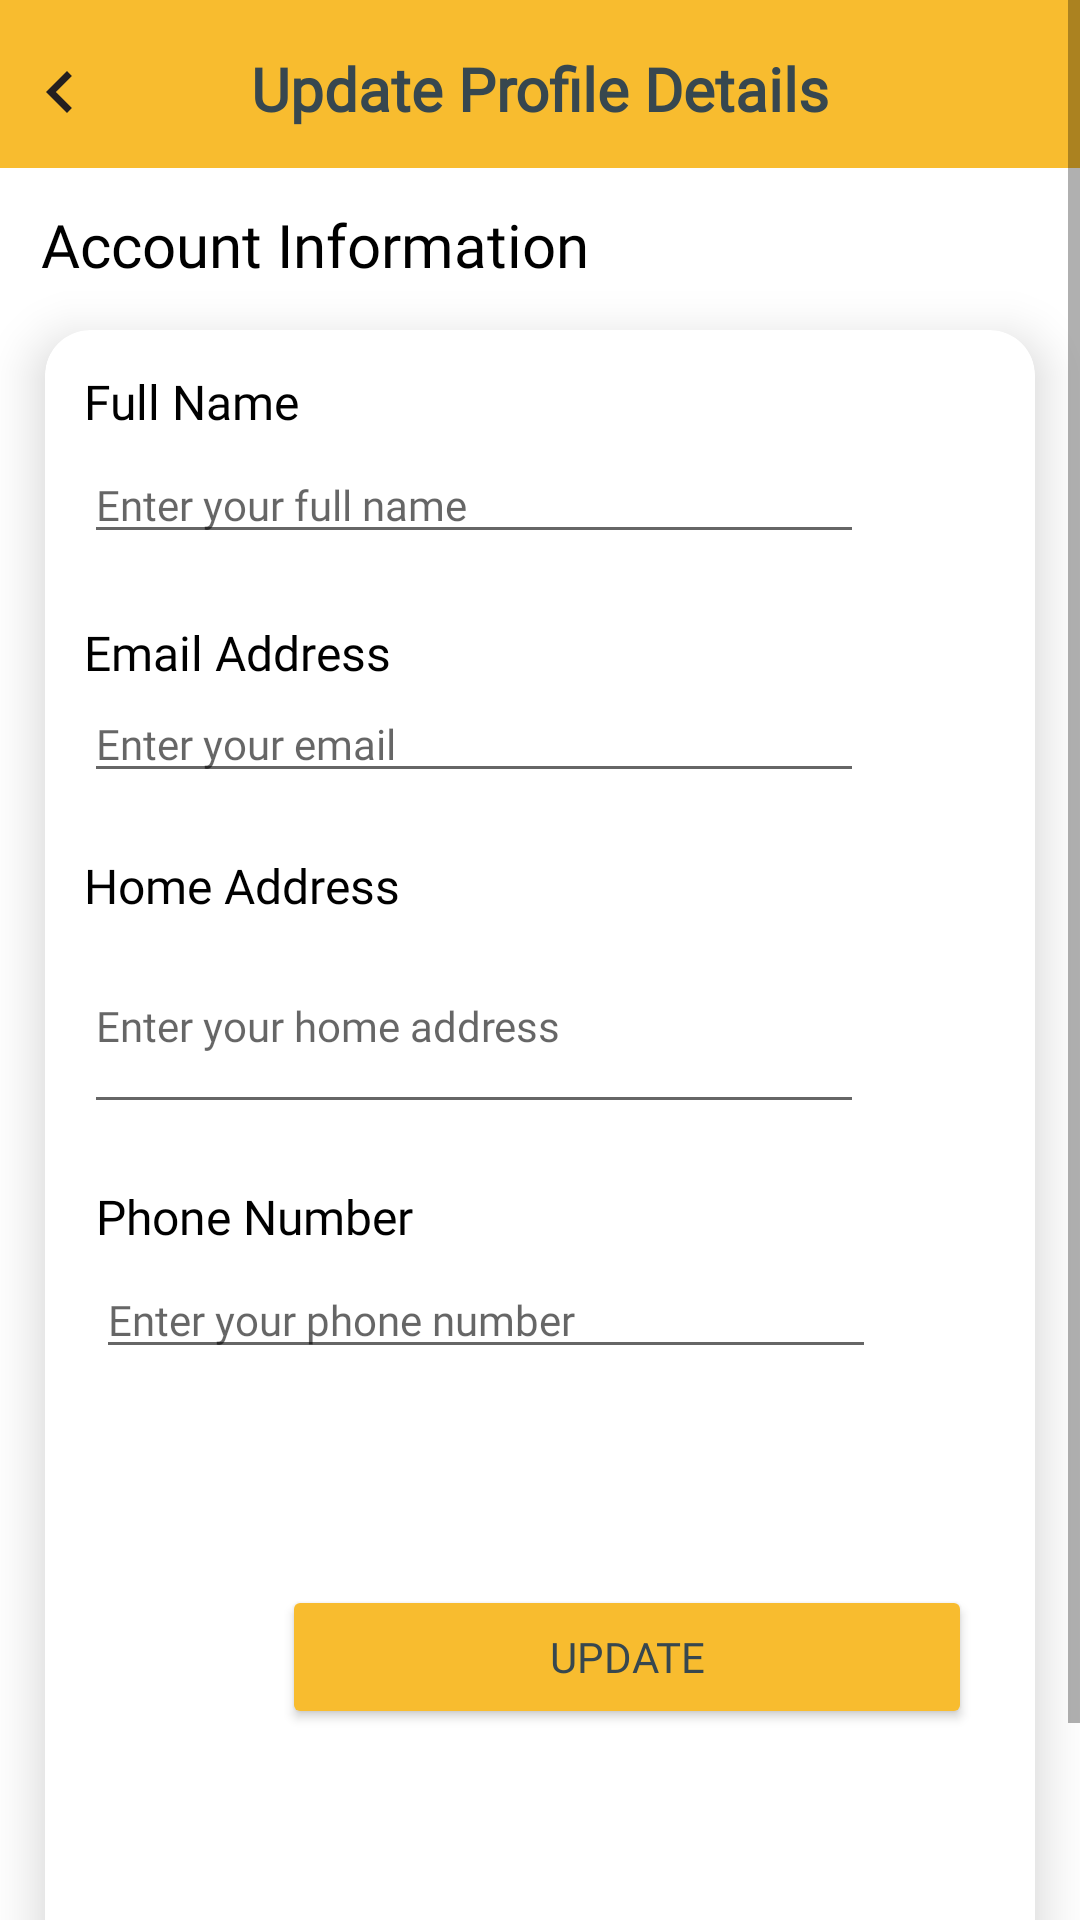

Named icons in this screenshot (1080px×1920px) and their bounding boxes, (x1, y1, x2, y2):
chevron left: (46, 71, 72, 113)
